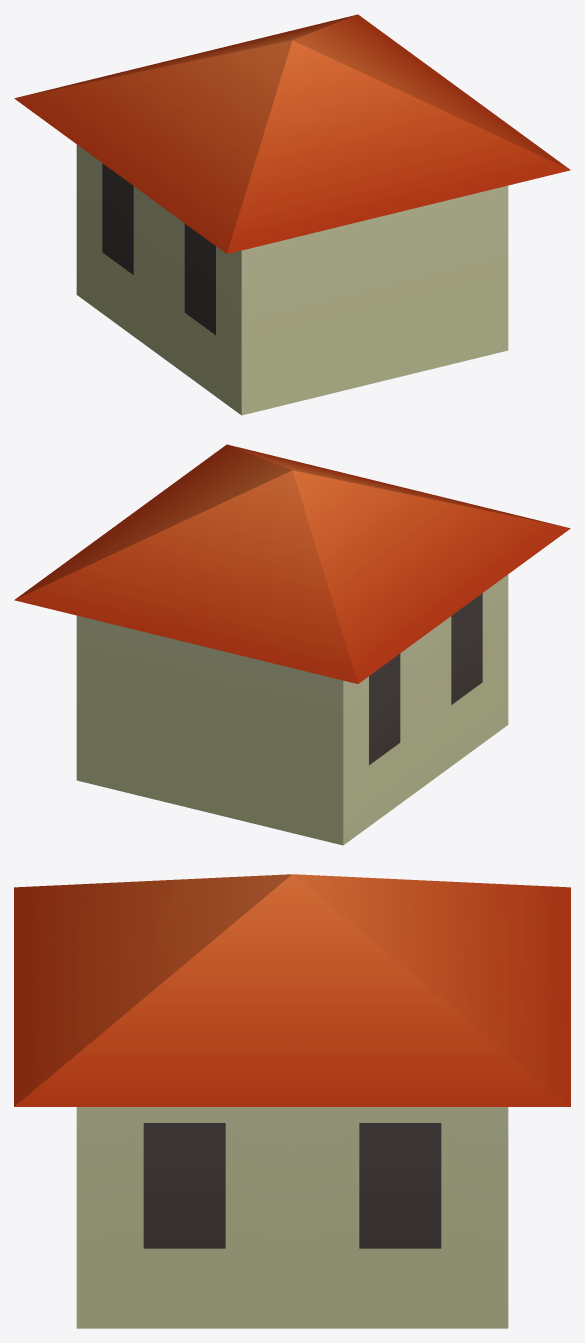
File: SM_VistaHouse_01.fbx
The picture shows the model from 3 angles, top to bottom: view 1: azimuth 30°, elevation 25°; view 2: azimuth 150°, elevation 25°; view 3: azimuth 270°, elevation 25°; orthographic projection. The views are drawn at different scales.
Visible parts, largest first — view 1: SM_VistaHouse_01; view 2: SM_VistaHouse_01; view 3: SM_VistaHouse_01.
Boxes of the visible parts, box(x1,y1,x2,y2) form: SM_VistaHouse_01: box(14, 14, 570, 415); SM_VistaHouse_01: box(14, 444, 570, 845); SM_VistaHouse_01: box(14, 874, 570, 1328).
Size of the model in its own units: 3.61 by 2.83 by 3.87.
